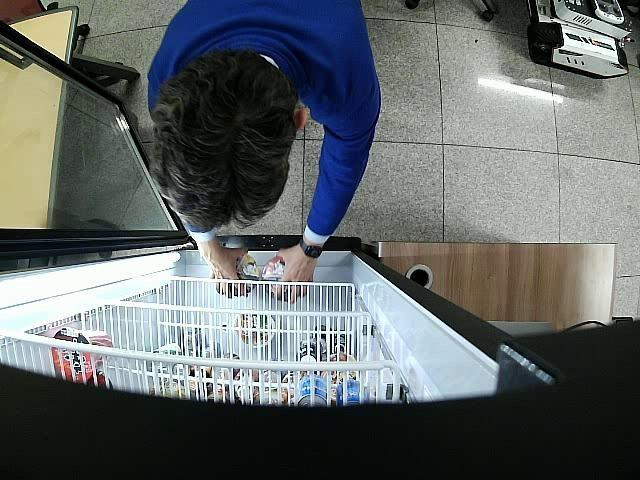07_buldak_L: (222, 253, 260, 296), (262, 258, 288, 301)
